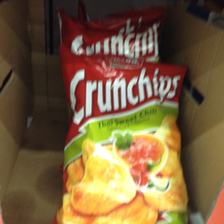chips: (59, 48, 188, 224)
